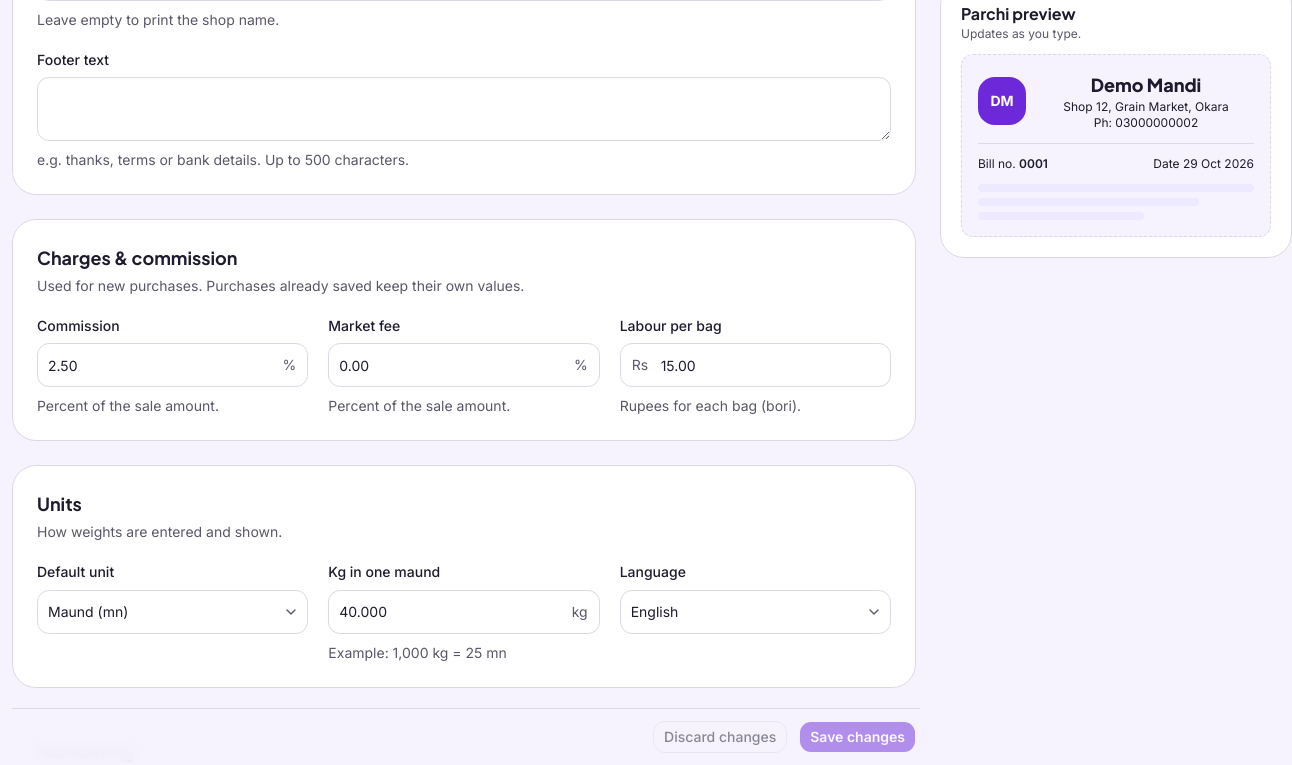
Test: SettingsForm › saving › saves a new commission as the owner
The image size is (1292, 765).
(page scrolled)
Step 1. Replace the text in the field labelled "Commission" with "3.25" → (173, 365), box [37,343,308,387]
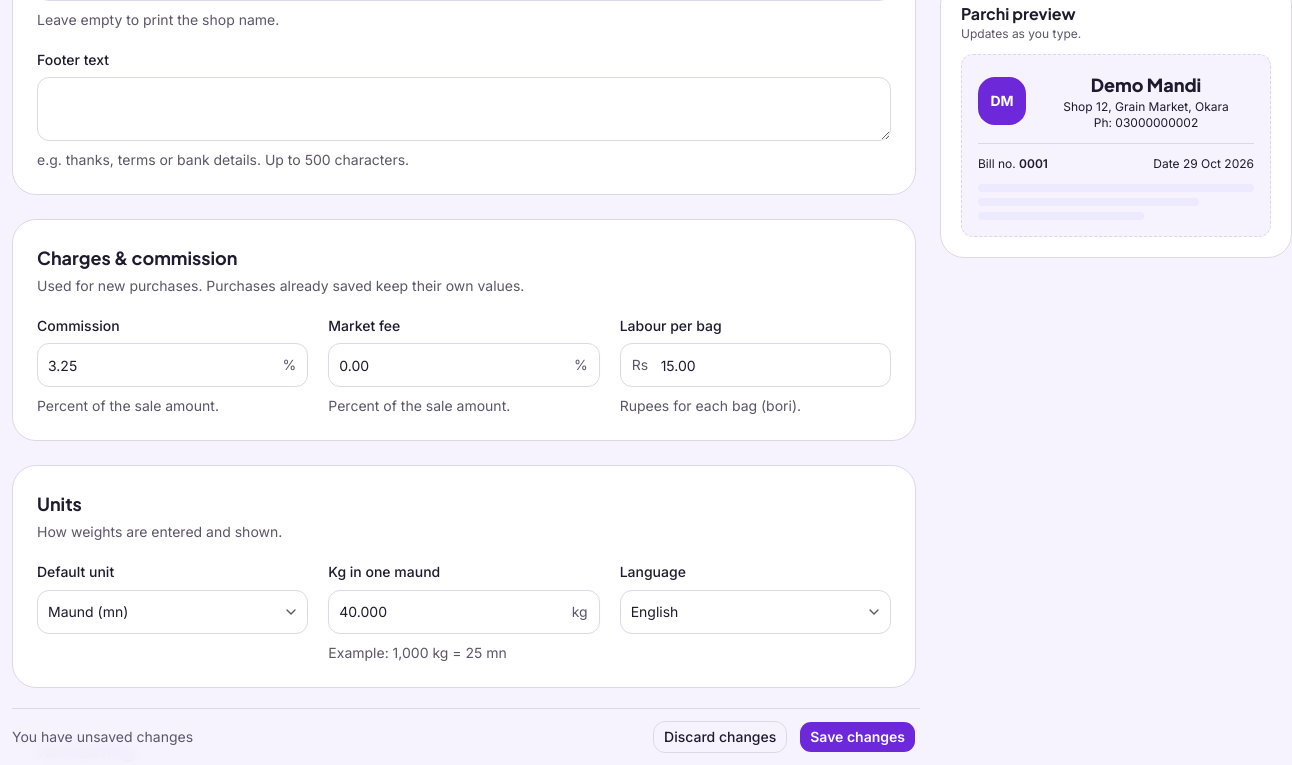
Step 2. Click the button "Save changes" → click(858, 737), box [799,721,916,753]
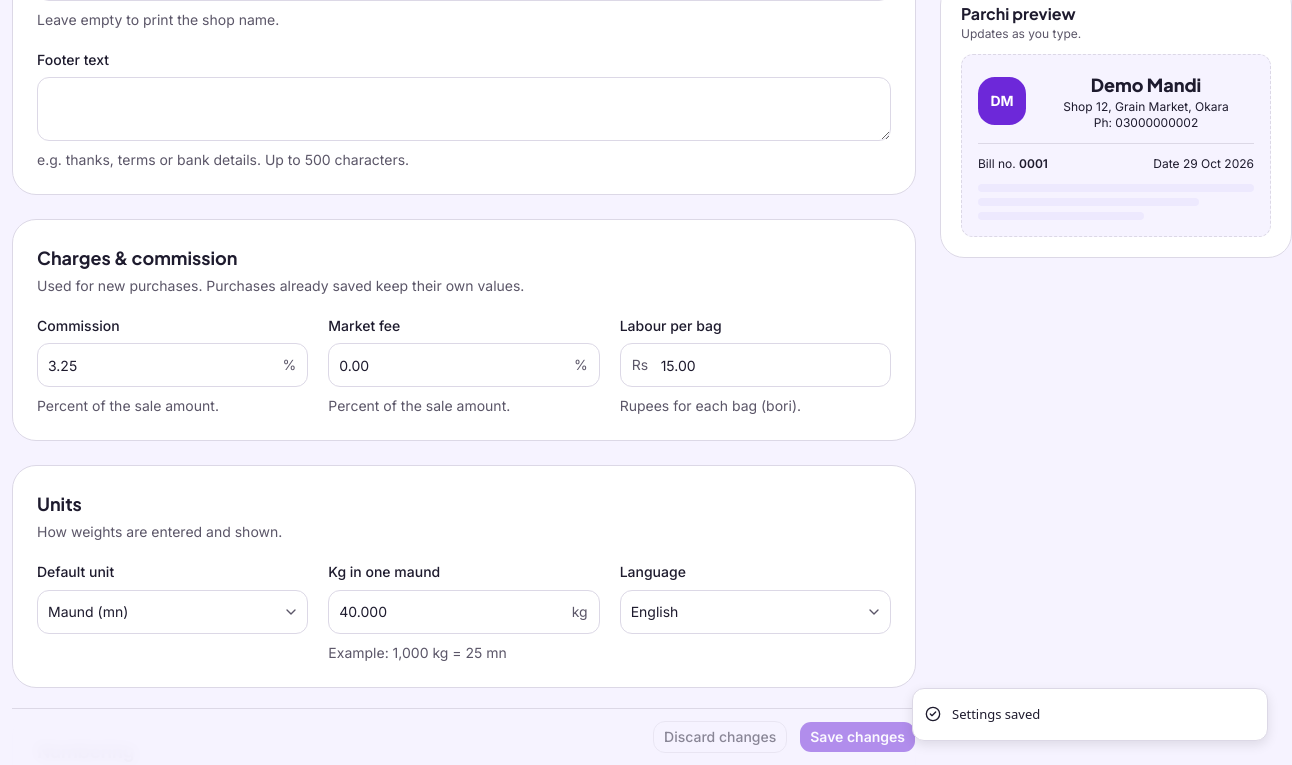
Result: the text "Settings saved" is shown at [952,704,1040,724]
